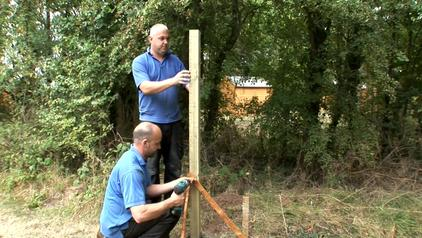crouch: (107, 139, 161, 238)
